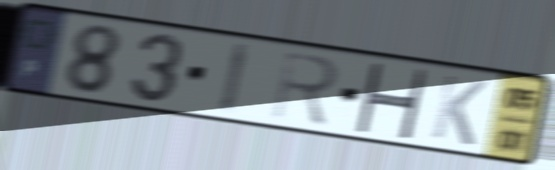3: (125, 30, 185, 106)
8: (62, 22, 124, 97)
H: (351, 59, 431, 142)
I: (214, 39, 254, 118)
K: (427, 71, 491, 149)
R: (267, 47, 342, 129)
